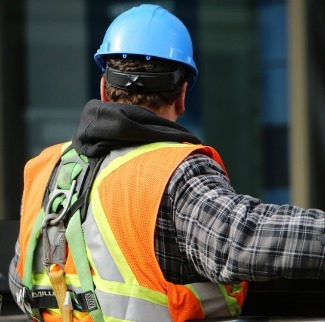hard hat: (93, 4, 200, 84)
high-vis: (24, 134, 248, 320)
